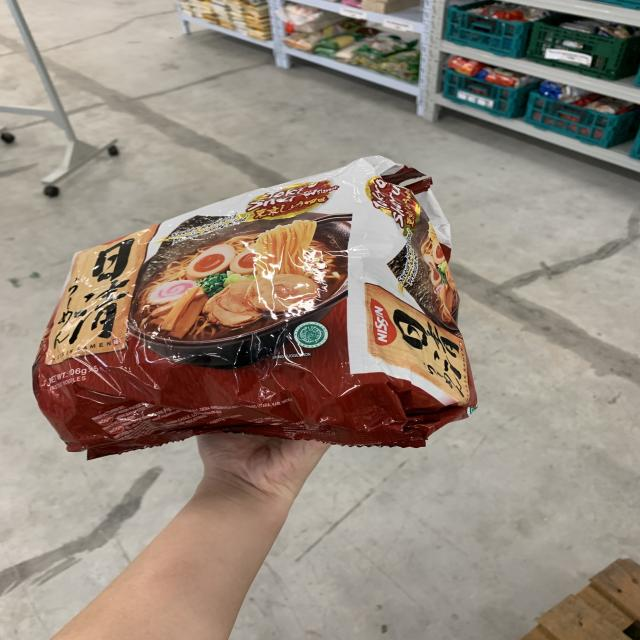object_name: (46, 208, 453, 434)
